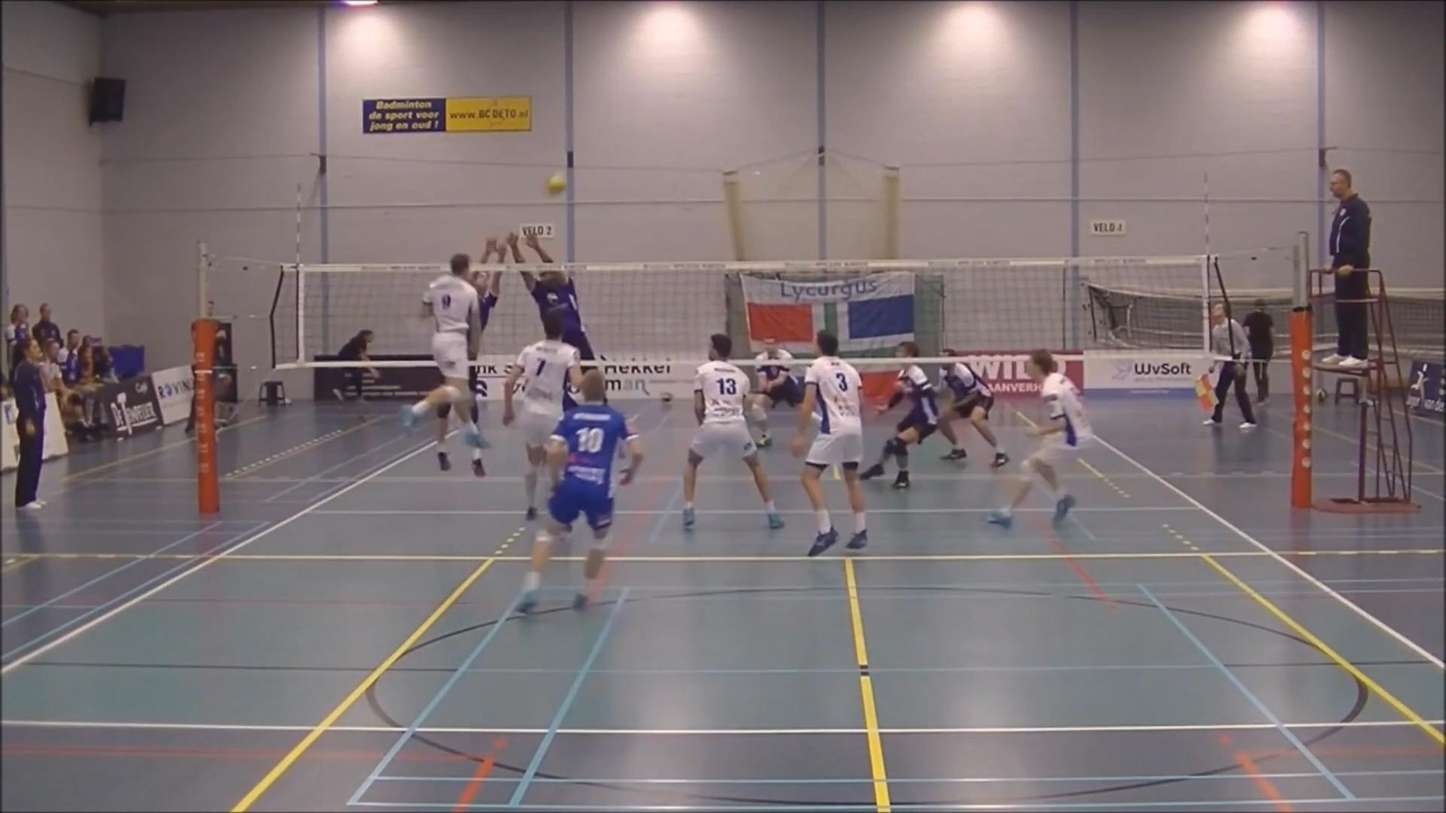attacco: (398, 230, 502, 466)
muro: (428, 225, 510, 484), (503, 217, 609, 417)
